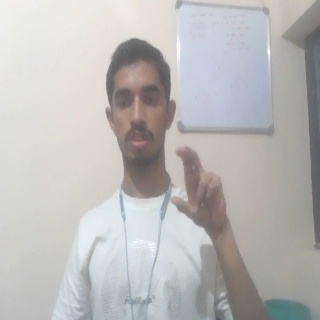Face: (101, 37, 177, 168)
No: (167, 145, 230, 231)
